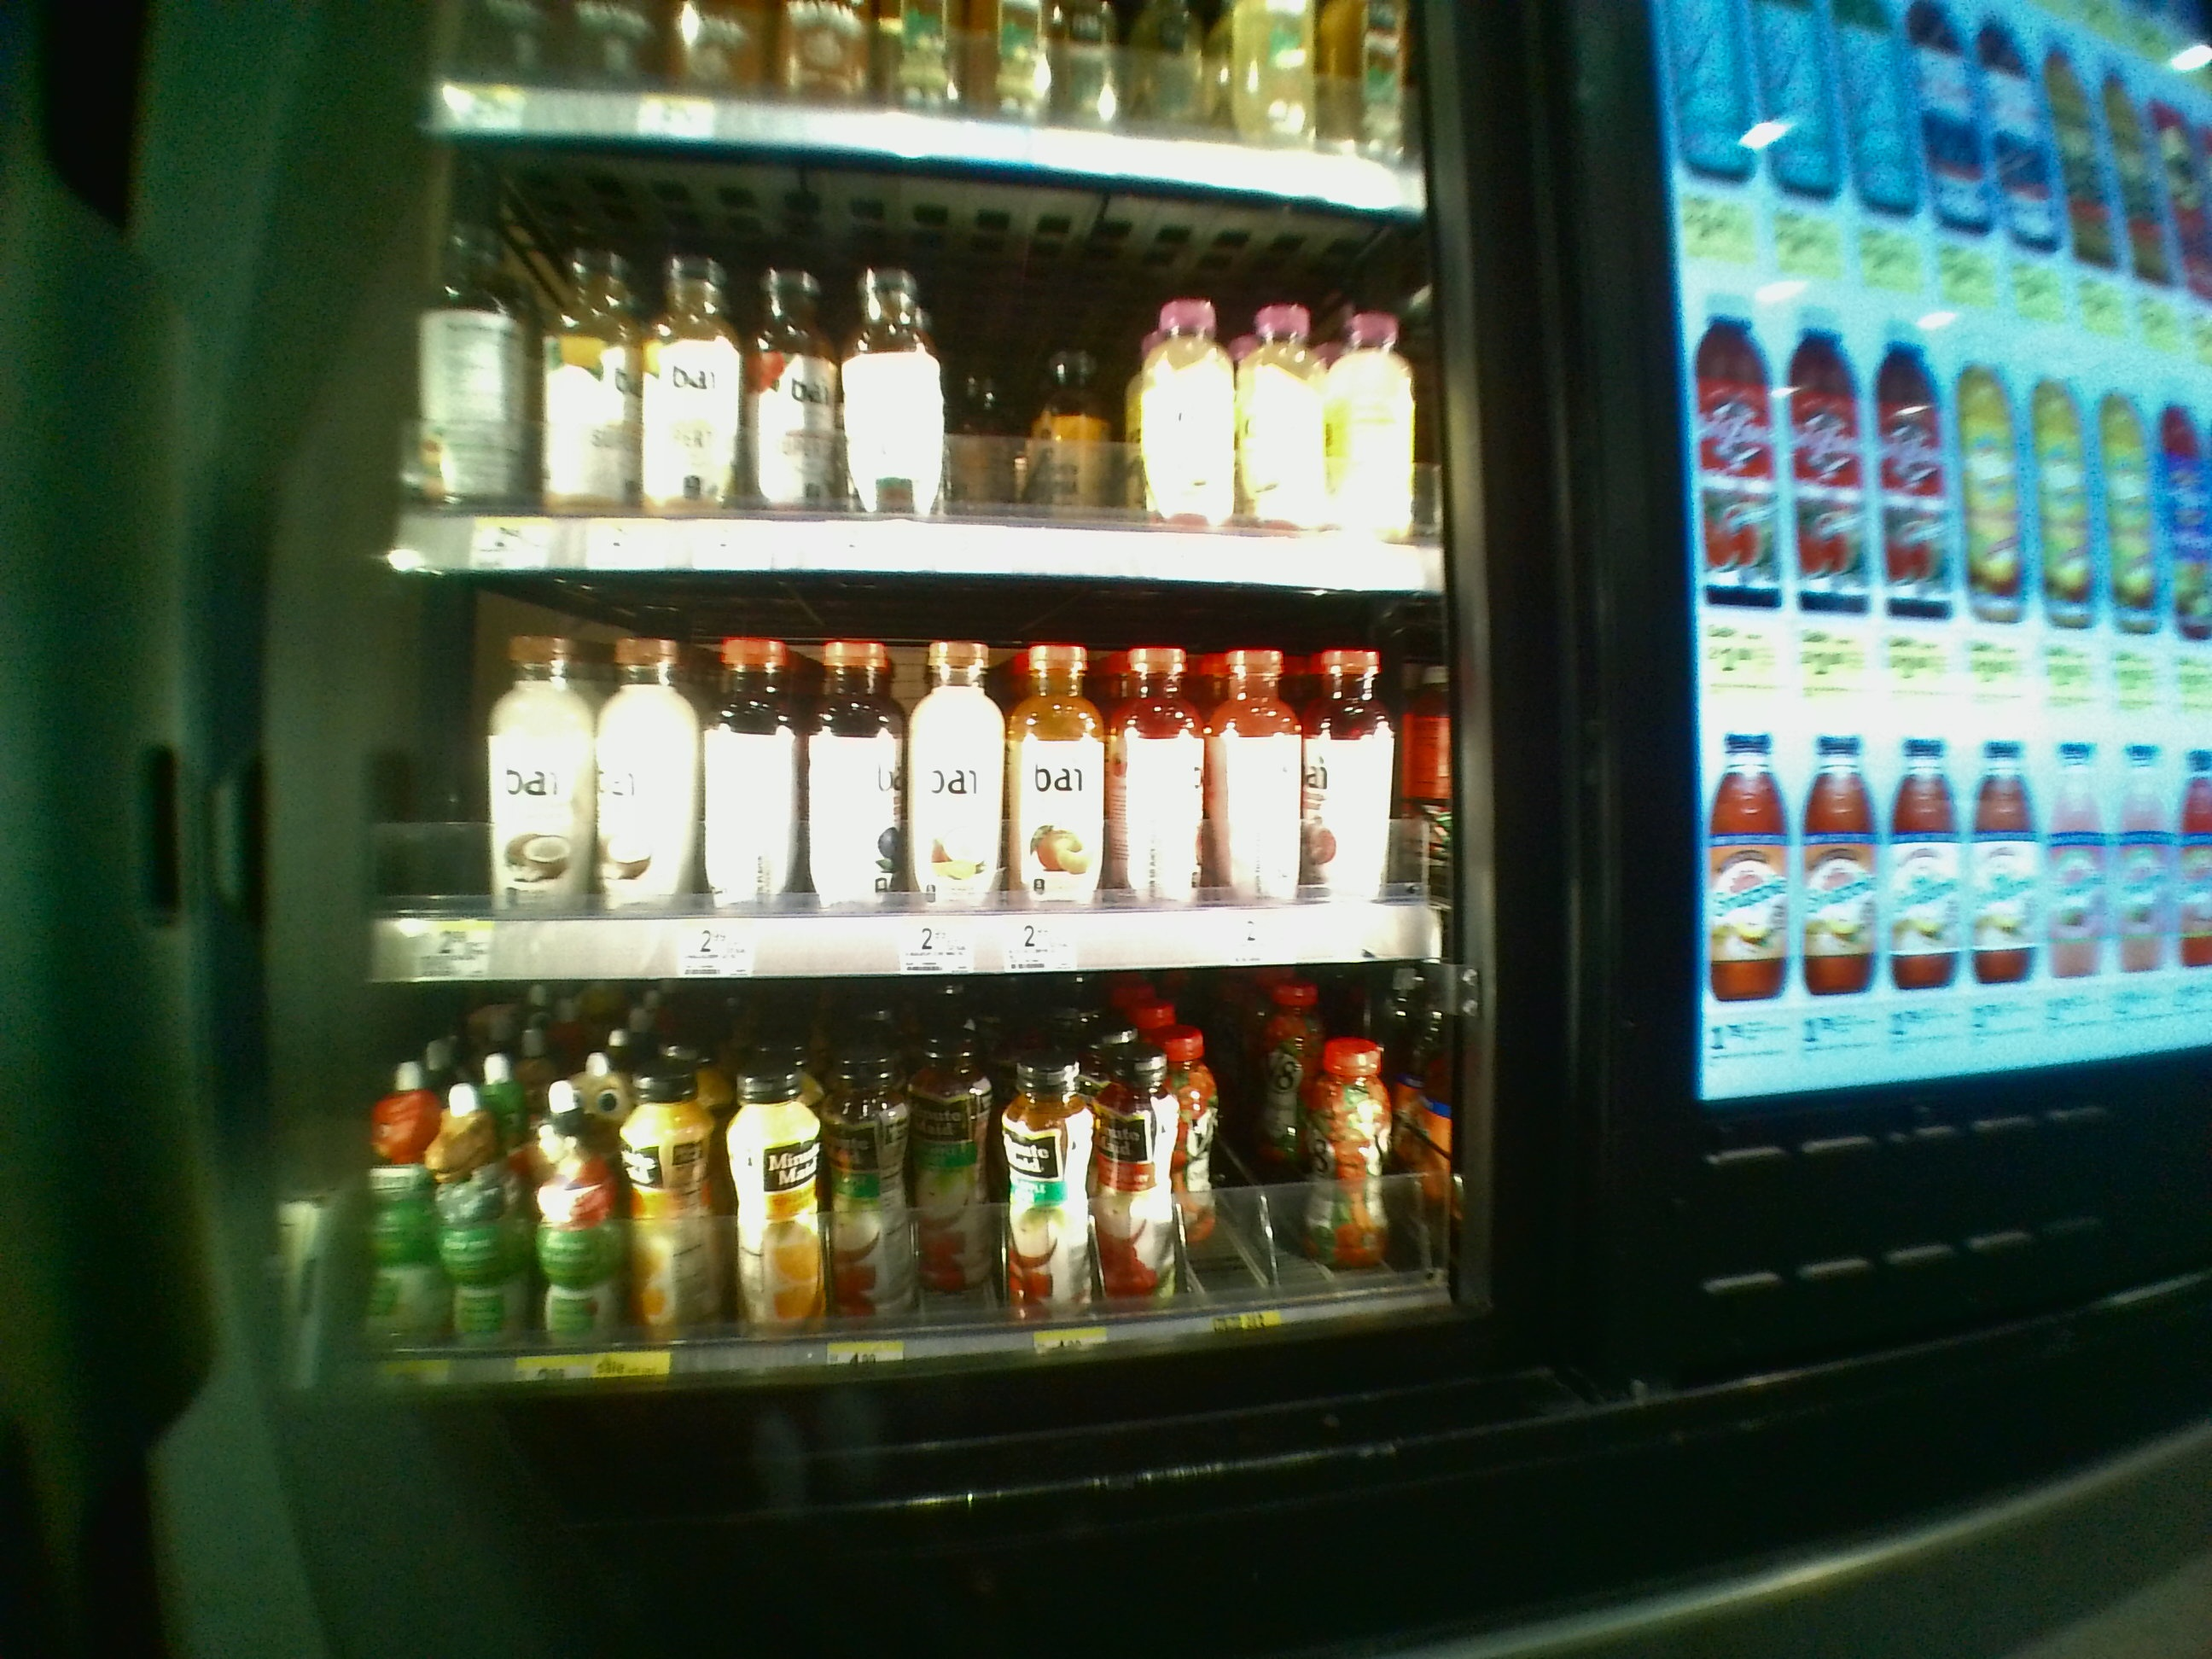shelf: (383, 134, 1439, 575), (359, 997, 1489, 1384), (376, 601, 1458, 979)
